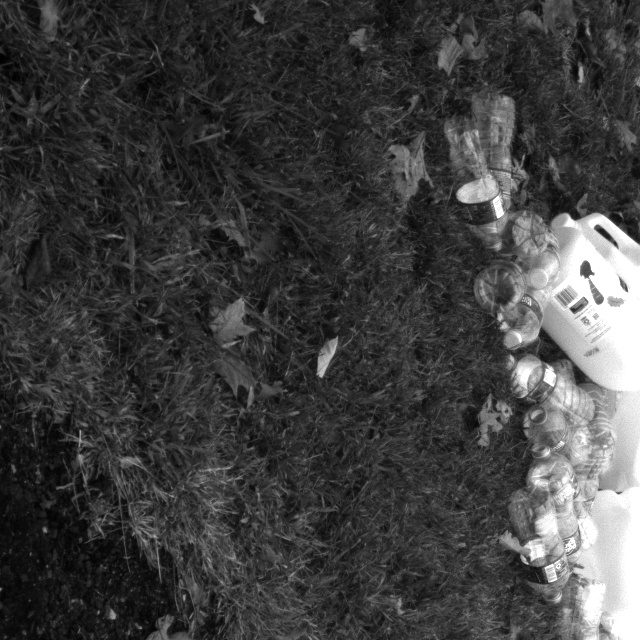bottle: (433, 114, 513, 255), (506, 474, 573, 608), (508, 396, 593, 500), (498, 346, 597, 435), (464, 81, 521, 233), (571, 382, 617, 482), (555, 572, 601, 640), (469, 265, 525, 320)
can: (517, 225, 640, 404), (545, 200, 640, 338)
